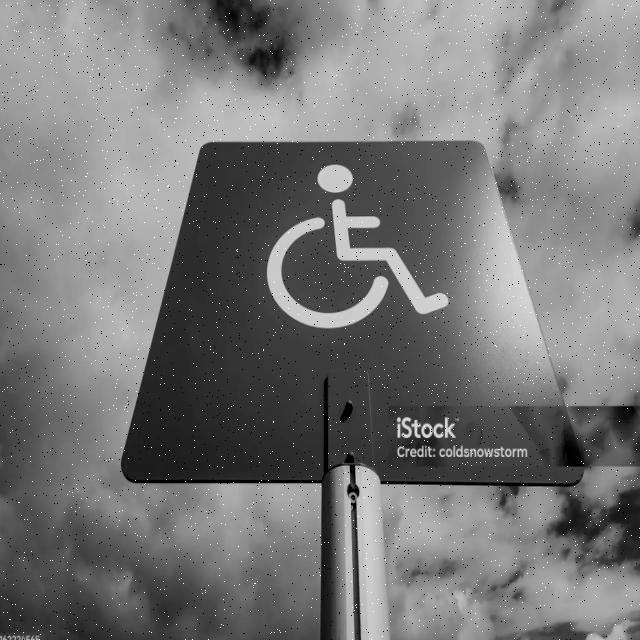symbol_of_access: (119, 134, 588, 488)
